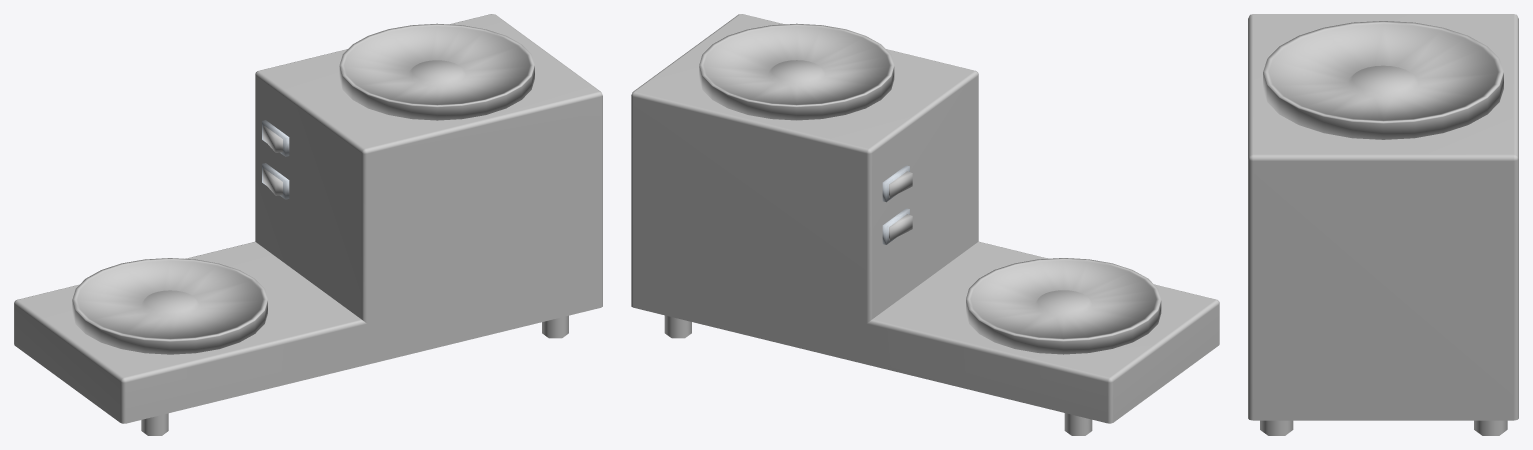
The model's file is SM_CoffeeHeater.fbx.
3 views of the same model, side by side, from view 1: azimuth 30°, elevation 25°; view 2: azimuth 150°, elevation 25°; view 3: azimuth 270°, elevation 25° (orthographic). The views are drawn at different scales.
Visible parts, largest first — view 1: SM_CoffeeHeater_LOD0; view 2: SM_CoffeeHeater_LOD0; view 3: SM_CoffeeHeater_LOD0.
Part boxes in pixels (x1,y1,x2,y2): SM_CoffeeHeater_LOD0: (14,14,602,435); SM_CoffeeHeater_LOD0: (631,14,1219,435); SM_CoffeeHeater_LOD0: (1248,14,1518,435).
Bounding box in the file's own units: 56.16 × 22.23 × 28.36.
Materials: 6 (1 with a texture image).
